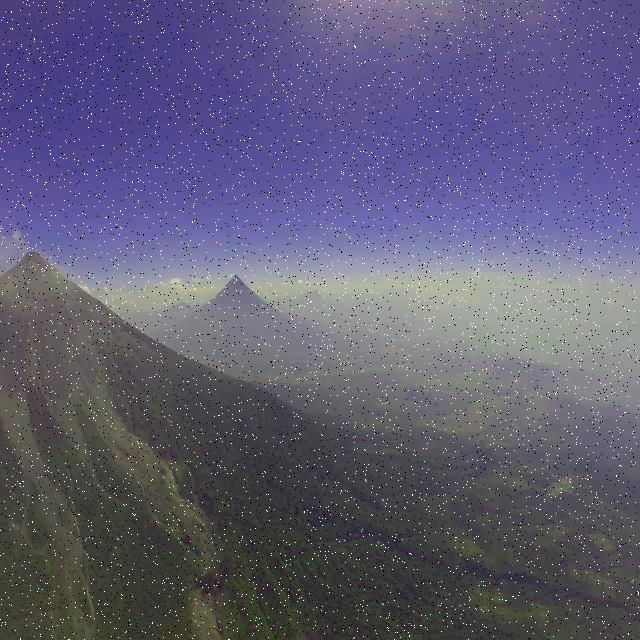Summit: (6, 246, 61, 284)
